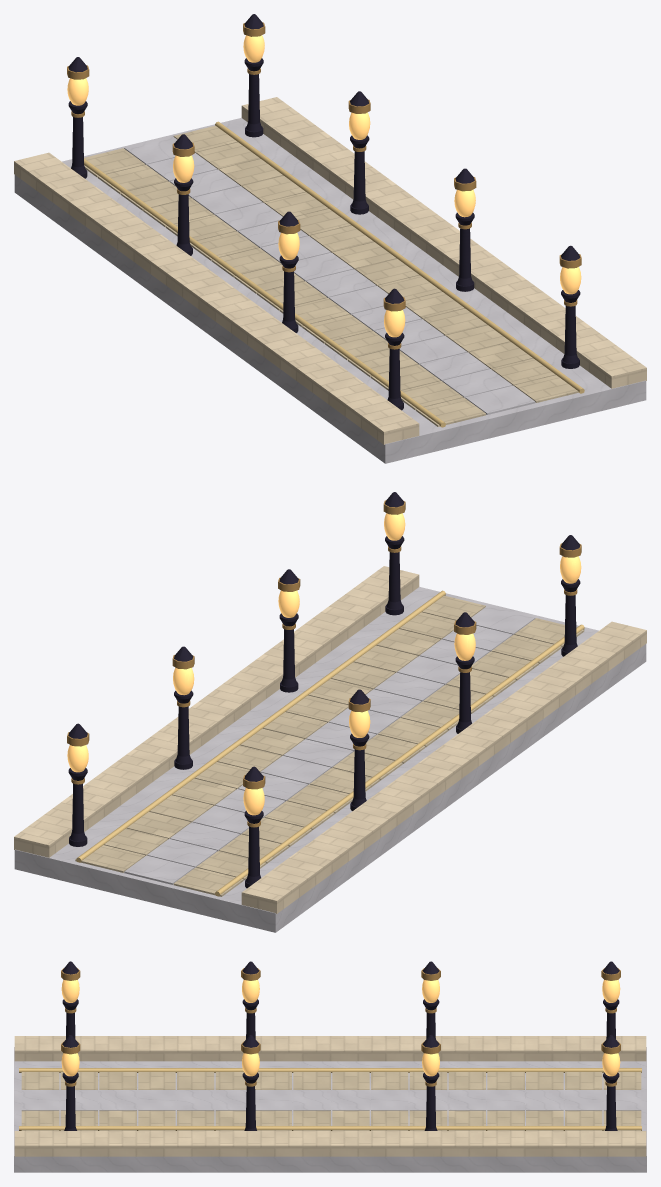
Rendered from ray-promenade.glb.
3 renders of one model, top to bottom at view 1: azimuth 30°, elevation 25°; view 2: azimuth 150°, elevation 25°; view 3: azimuth 270°, elevation 25°, orthographic. The views are drawn at different scales.
Size of the model in its own units: 5.08 by 2.58 by 12.4.
7 materials, 7 textured.
